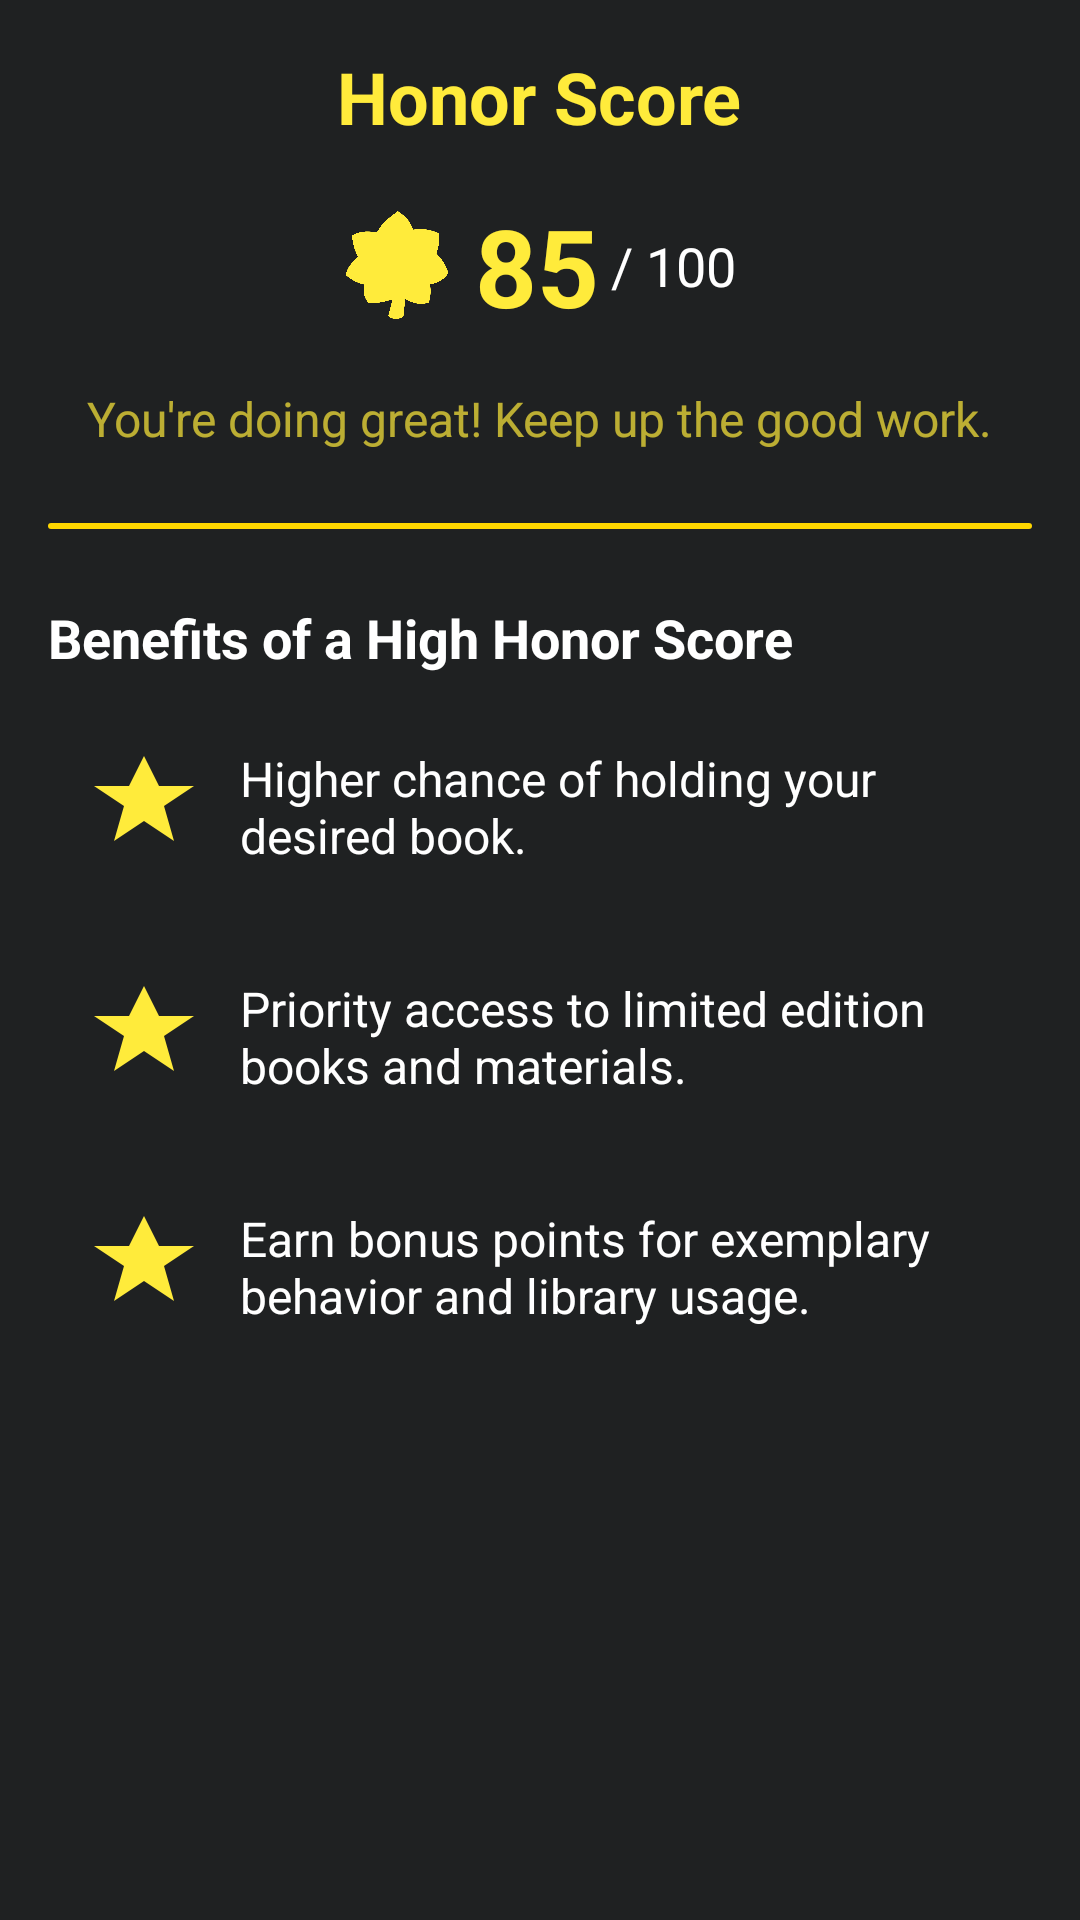

Screen size 1080w x 1920h. Icon name, then its box in pixels as (x1, y1, x2, y2):
starpoint: (94, 756, 194, 841), (94, 986, 194, 1071), (94, 1216, 194, 1301)
